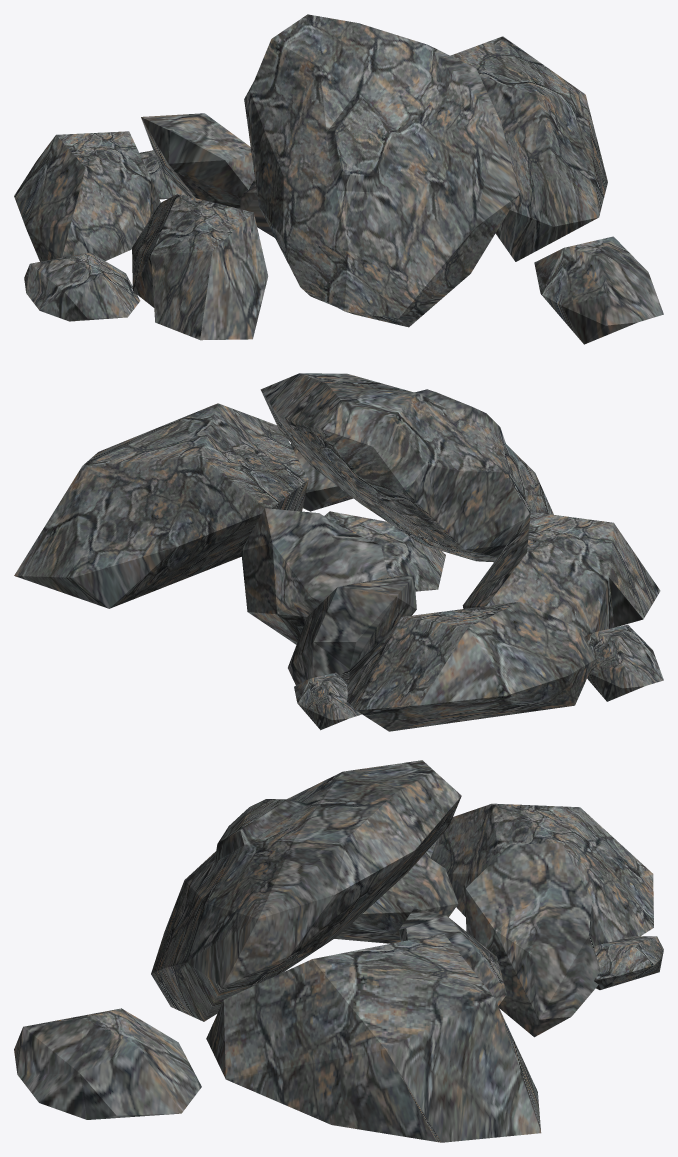
The model's file is C1SNOUTCROP_H.obj.
The picture shows the model from 3 angles, top to bottom: view 1: azimuth 30°, elevation 25°; view 2: azimuth 150°, elevation 25°; view 3: azimuth 270°, elevation 25°; orthographic projection. The views are drawn at different scales.
Visible parts, largest first — view 1: Node 0; view 2: Node 0; view 3: Node 0.
Boxes of the visible parts, left/top/right/bottom form: Node 0: left=14, top=14, right=663, bottom=344; Node 0: left=14, top=373, right=663, bottom=731; Node 0: left=14, top=760, right=663, bottom=1142.
Bounding box in the file's own units: 39.02 × 16.02 × 34.89.
